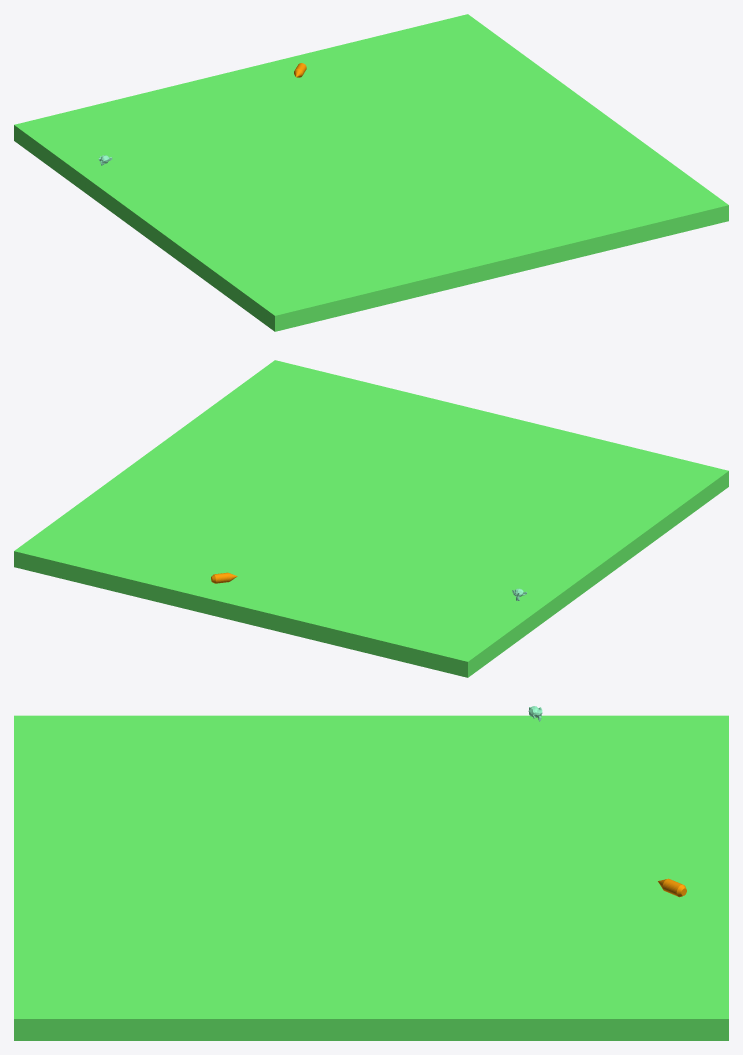
File: Gotthard_2.glb
The picture shows the model from 3 angles, top to bottom: view 1: azimuth 30°, elevation 25°; view 2: azimuth 150°, elevation 25°; view 3: azimuth 270°, elevation 25°; orthographic projection. The views are drawn at different scales.
Parts seen in each view (by area): view 1: Erde; view 2: Erde; view 3: Erde.
Boxes of the visible parts, x1,y1,x2,y2 form: Erde: [14, 14, 728, 331]; Erde: [14, 360, 728, 677]; Erde: [14, 715, 728, 1040].
Size of the model in its own units: 5.97 by 0.4014 by 5.95.
Materials: 1 (1 with a texture image).
